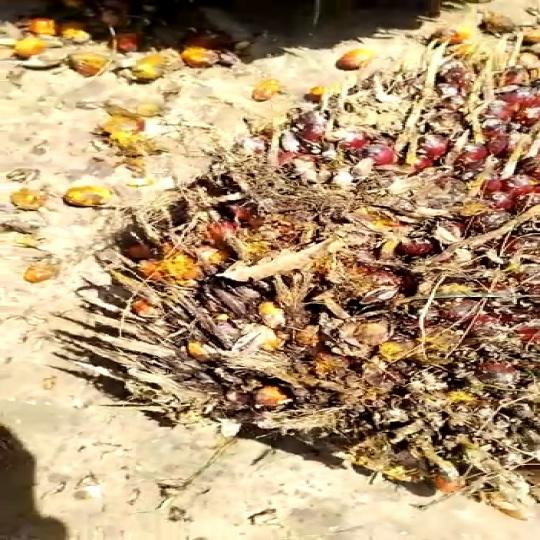masak: (53, 25, 540, 540)
